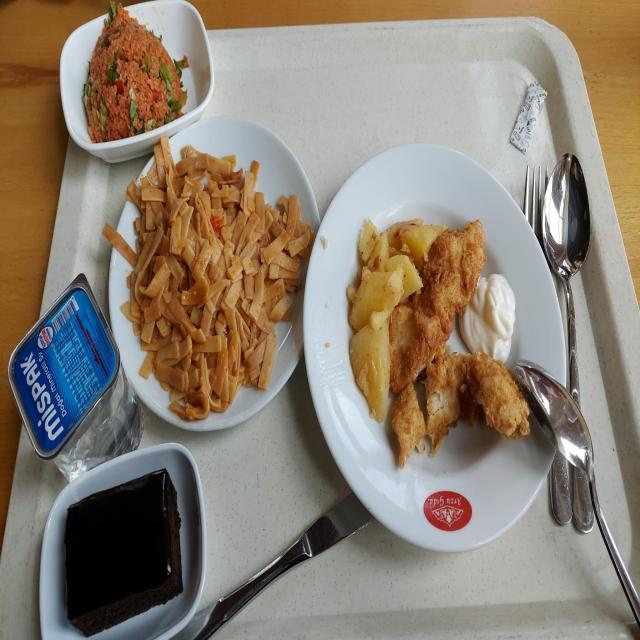ana_yemek: (321, 142, 563, 557), (106, 112, 313, 431)
yan_yemek: (38, 441, 205, 637), (59, 0, 213, 164)
